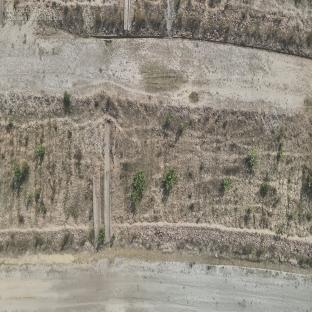slope_drain: (104, 124, 112, 244), (91, 159, 101, 237)
toe_drain: (0, 246, 312, 277)
vegetation: (129, 168, 146, 209)
